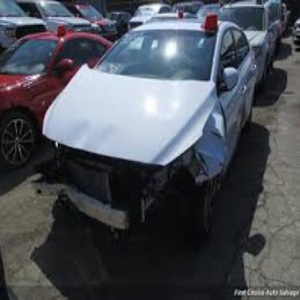bumper: (75, 163, 175, 240)
